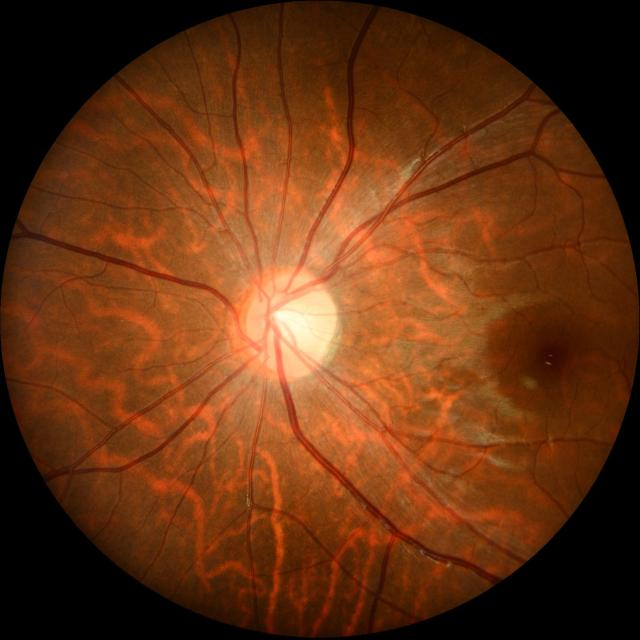OC: (270, 298, 312, 347)
OD: (246, 271, 332, 376)
